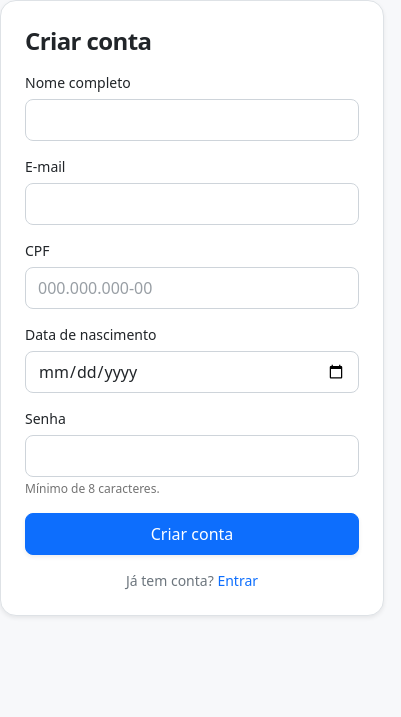
Test: CadastroForm › mostra erro genérico quando a API não responde direito
Step 1. Type "Ana Souza" into the field labelled "Nome completo" → (192, 120), box [25, 99, 359, 141]
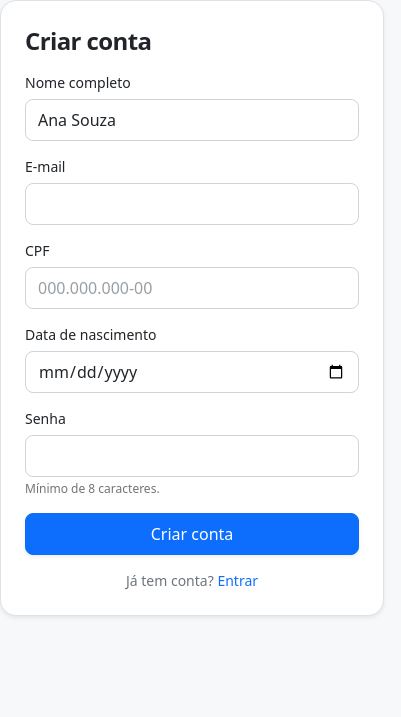
Step 2. Type "ana@example.com" into the field labelled "E-mail" → (192, 204), box [25, 183, 359, 225]
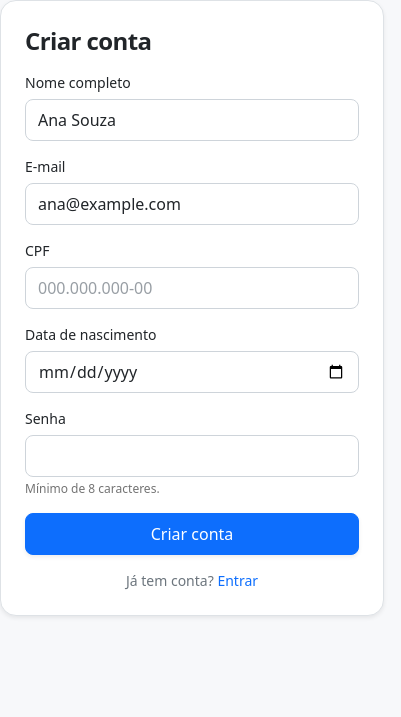
Step 3. Type "529.982.247-25" into the field labelled "CPF" → (192, 288), box [25, 267, 359, 309]
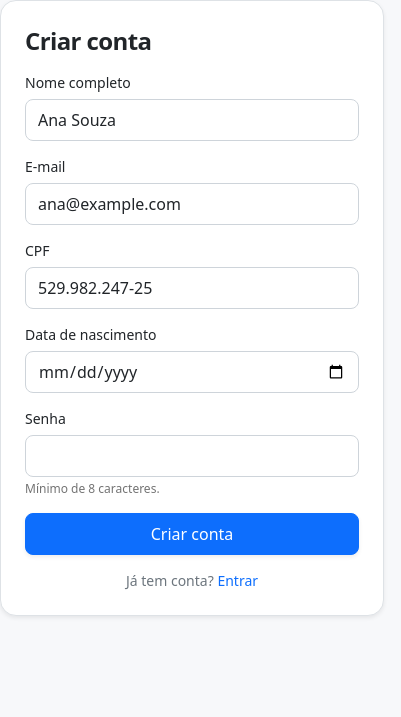
Step 4. Type "1990-05-20" into the date field labelled "Data de nascimento" → (192, 372), box [25, 351, 359, 393]
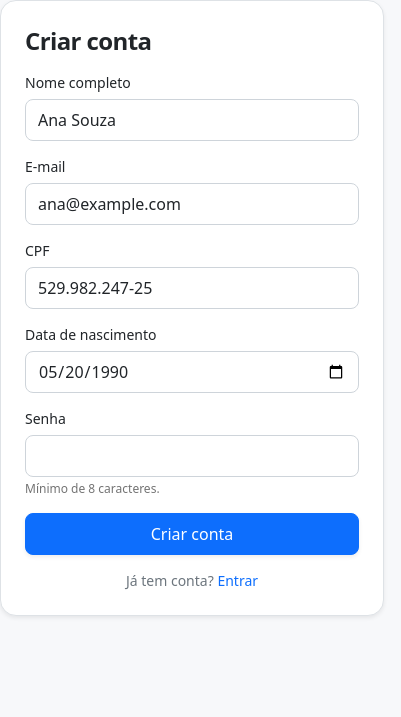
Step 5. Type "senha1234" into the password field labelled "Senha" → (192, 456), box [25, 435, 359, 477]
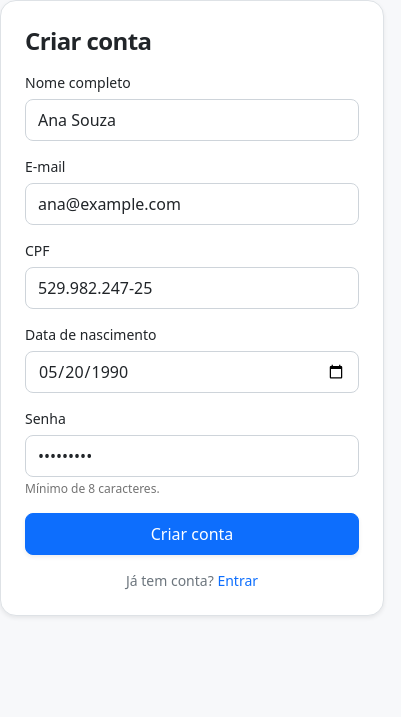
Step 6. Click the button "Criar conta" → (192, 534), box [25, 513, 359, 555]
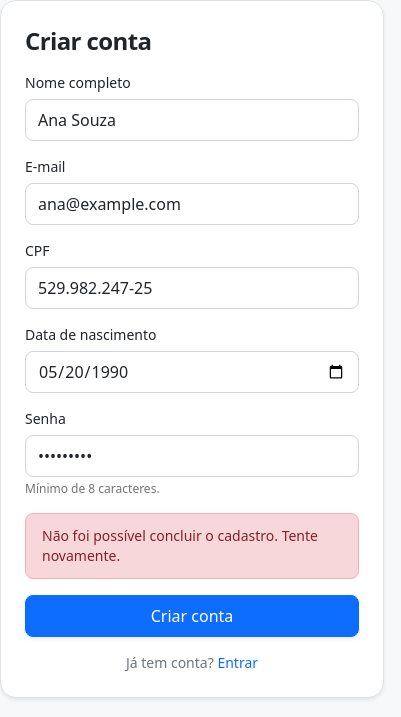
Expected: the message shows "Não foi possível concluir o cadastro", [42, 526, 318, 565]
